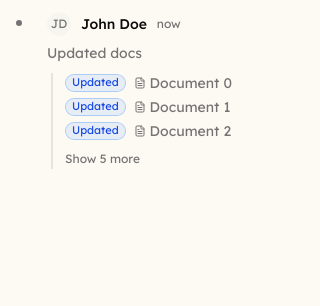
it: ActivityFeedItem › shows "Show more" toggle when documents exceed limit
Check: the text "Document 0" is shown, box [150,73,232,93]
Check: the text "Document 1" is shown, box [150,97,230,117]
# Toggle to show all
Click the button "Show 5 more": [102, 159] box [65,151,140,167]
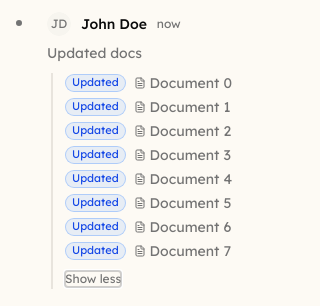
Check: the text "Document 7" is shown, box [150,241,231,261]
Check: the button "Show less" is shown, box [65,271,121,287]
